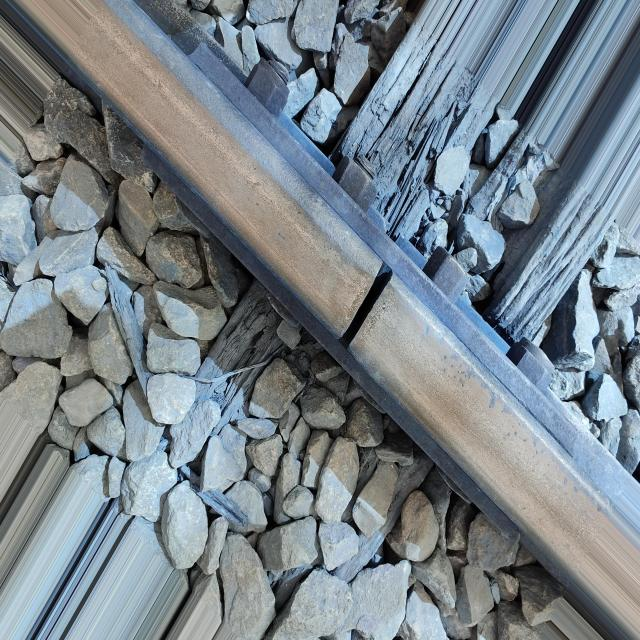crack: (324, 253, 421, 370)
